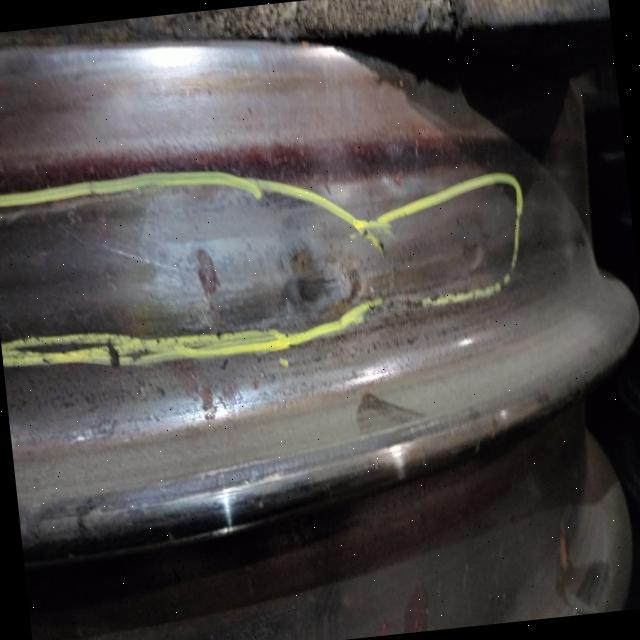flat: (1, 159, 388, 357)
